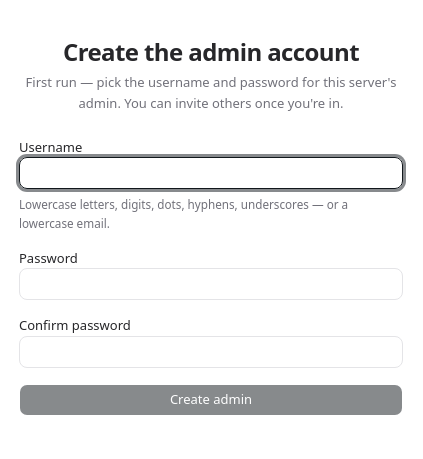
Test case: SetupPage › surfaces a non-409 error inline without navigating
Type "root" into the field labelled "Username" at (211, 173), box [19,157,403,189]
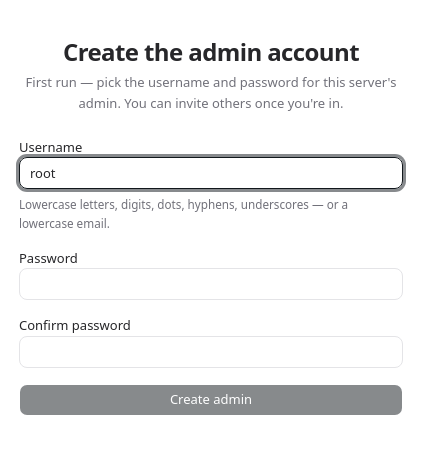
Type "longenough" into the password field labelled "Password" at (211, 284), box [19,268,403,300]
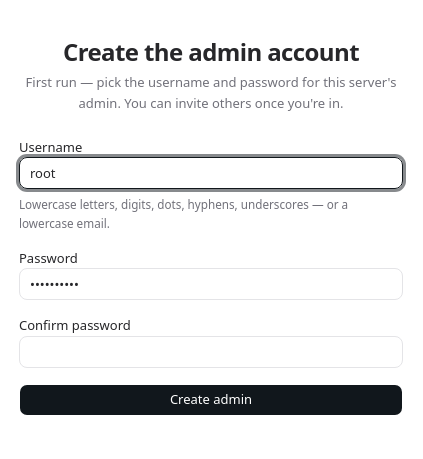
Type "longenough" into the password field labelled "Confirm password" at (211, 352), box [19,336,403,368]
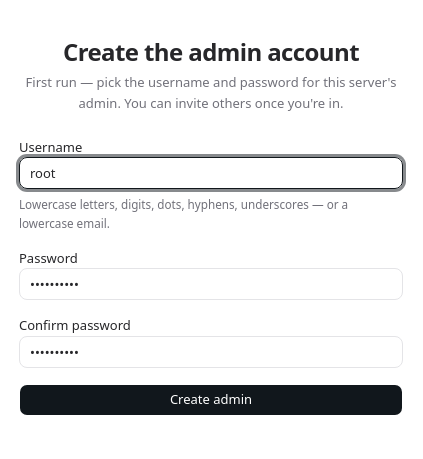
Click the button "Create admin" at (211, 400), box [19,384,403,416]
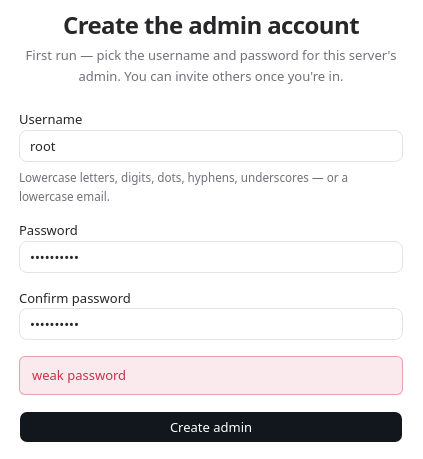
Result: the message reads "weak password" at [32,366,126,384]
